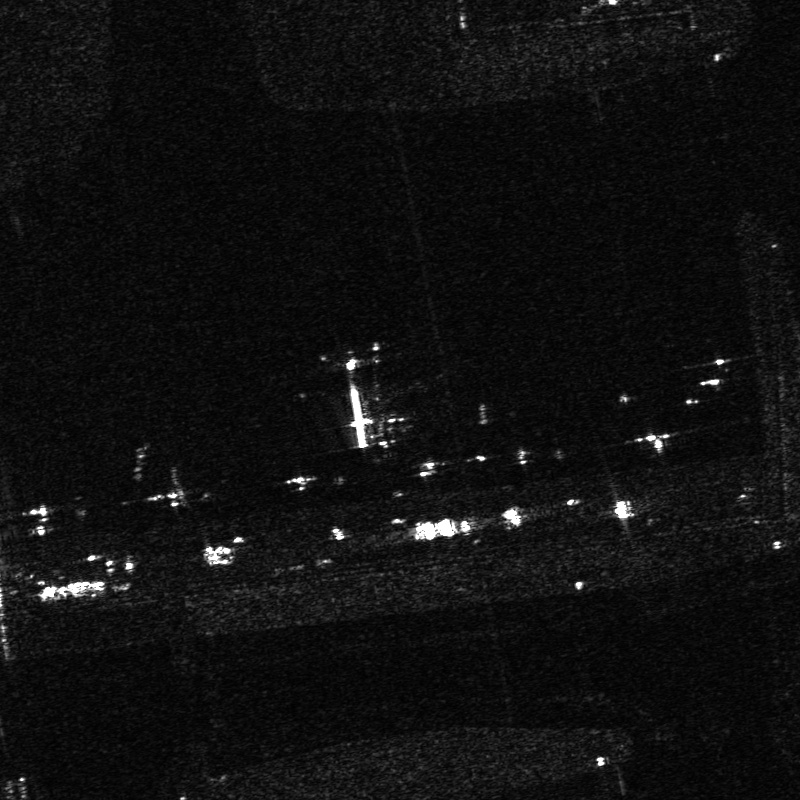Boeing787: (293, 331, 428, 449)
